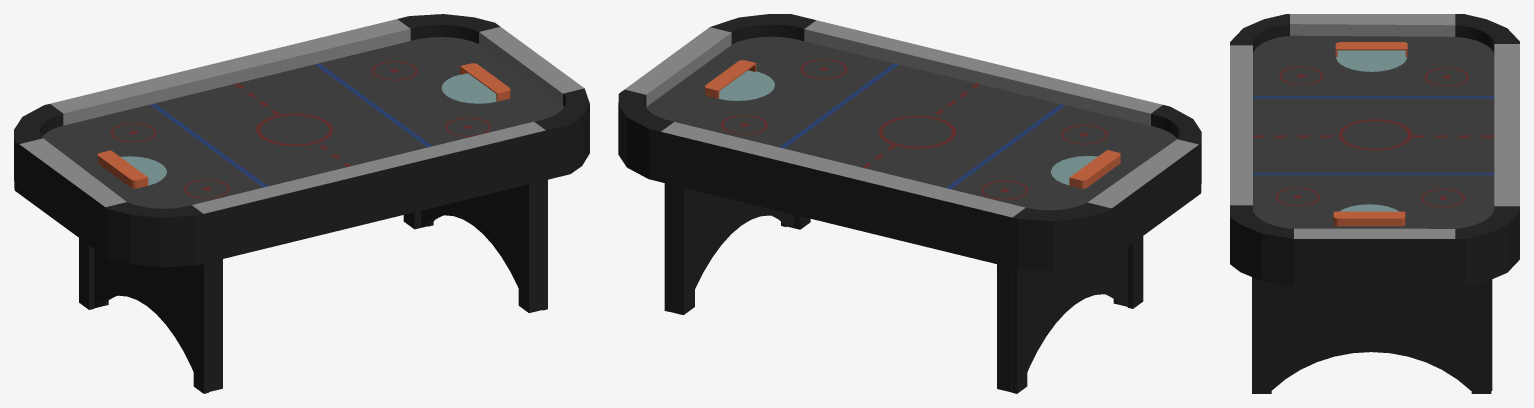
Rendered from Air+Hockey.fbx.
3 views of the same model, side by side, from view 1: azimuth 30°, elevation 25°; view 2: azimuth 150°, elevation 25°; view 3: azimuth 270°, elevation 25° (orthographic). The views are drawn at different scales.
Parts seen in each view (by area): view 1: Group1, Model; view 2: Group1, Model; view 3: Group1, Model.
Part boxes in pixels (x1,y1,x2,y2): Group1: [14, 14, 589, 391]; Model: [79, 180, 547, 393]; Group1: [618, 14, 1201, 392]; Model: [664, 183, 1143, 393]; Group1: [1230, 14, 1519, 286]; Model: [1252, 277, 1492, 393].
Size of the model in its own units: 85.38 by 32.3 by 46.5.
